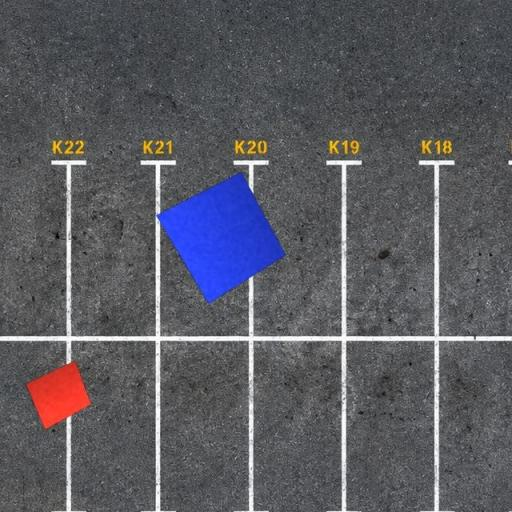BLUE_SQUARE: (156, 171, 286, 304)
RED_SQUARE: (25, 360, 92, 430)
